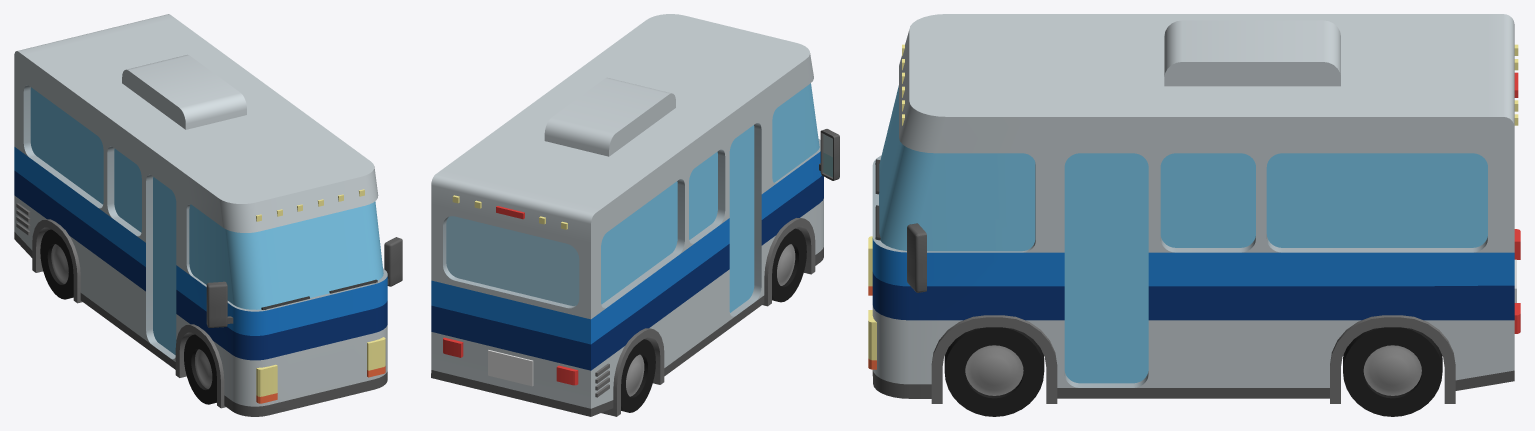
Rendered from oncoming_bus.glb.
The picture shows the model from 3 angles, left to right: view 1: azimuth 30°, elevation 25°; view 2: azimuth 150°, elevation 25°; view 3: azimuth 270°, elevation 25°; orthographic projection. The views are drawn at different scales.
Visible parts, largest first — view 1: Cube.610, Circle.2376, Cube.611, Cube.612, Cube.614; view 2: Cube.610, Circle.2376, Cube.611, Cube.613, Cube.612, Cube.614; view 3: Cube.610, Circle.2376, Cube.611, Cube.612, Cube.614.
Part boxes in pixels (<box>): Cube.610: <box>14,14,387,416</box>; Circle.2376: <box>40,229,216,404</box>; Cube.611: <box>32,219,225,408</box>; Cube.612: <box>256,189,385,403</box>; Cube.614: <box>206,237,402,327</box>; Cube.610: <box>431,14,823,416</box>; Circle.2376: <box>621,228,806,412</box>; Cube.611: <box>601,218,815,416</box>; Cube.613: <box>488,350,609,397</box>; Cube.612: <box>443,195,578,385</box>; Cube.614: <box>819,129,839,180</box>; Cube.610: <box>872,14,1514,398</box>; Circle.2376: <box>944,327,1442,416</box>; Cube.611: <box>931,315,1455,403</box>; Cube.612: <box>868,44,1520,369</box>; Cube.614: <box>907,223,926,292</box>.
Size of the model in its own units: 1.62 by 1.87 by 3.4.
1 material, 1 textured.
